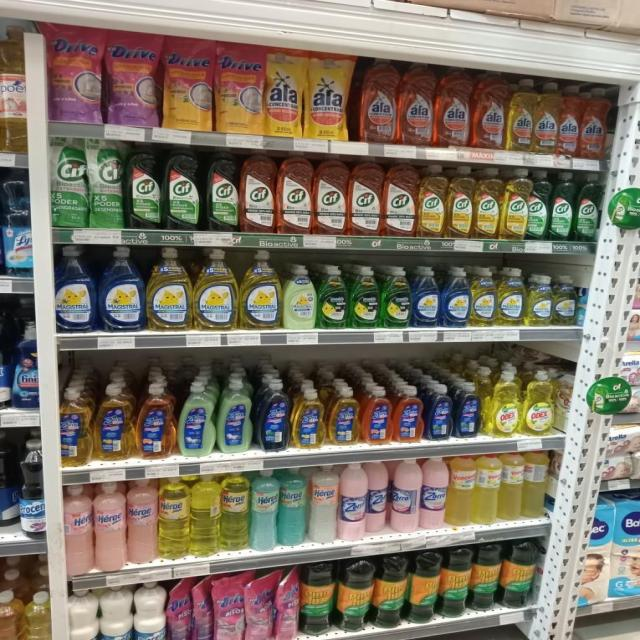ala_conc_amarillo: (508, 78, 534, 152), (534, 80, 558, 155)
ala_conc_rojo: (358, 58, 398, 144), (398, 61, 434, 147), (472, 70, 507, 150), (436, 66, 470, 148), (581, 85, 609, 159), (558, 83, 580, 158)
ala_sachet_amarillo: (306, 51, 352, 140), (265, 47, 304, 137)
cif_conc_bot_amarilla: (418, 164, 446, 238), (474, 166, 501, 240), (447, 164, 473, 238), (502, 168, 528, 240)
cif_conc_botella_roja: (277, 150, 312, 235), (240, 149, 275, 233), (348, 156, 382, 237), (314, 153, 347, 236), (384, 159, 417, 238)
cif_conc_botella_verde: (164, 144, 202, 230), (127, 141, 162, 230), (204, 146, 239, 232), (576, 171, 600, 242), (550, 171, 574, 241), (528, 170, 550, 240)
cif_conc_sachet_verde: (88, 138, 125, 229), (51, 136, 87, 228)
drive: (106, 30, 160, 127), (163, 36, 213, 131), (216, 42, 263, 134)
heroe: (94, 481, 125, 572), (63, 483, 93, 576), (158, 476, 189, 560), (127, 478, 157, 564), (190, 473, 220, 556), (308, 464, 338, 543), (250, 469, 278, 551), (221, 471, 249, 552), (279, 467, 307, 546)
magistral_con_amarillo: (147, 246, 192, 331), (193, 248, 238, 331), (240, 250, 281, 330), (497, 268, 525, 326), (471, 266, 496, 328), (526, 274, 552, 326), (553, 274, 578, 326)
magistral_con_azul: (100, 245, 144, 332), (54, 244, 96, 333), (412, 265, 440, 328), (442, 266, 470, 328)
magistral_con_crema: (284, 264, 316, 330)
odex: (489, 368, 521, 438), (523, 370, 555, 436)
zorro: (94, 382, 134, 461), (136, 381, 175, 459), (178, 379, 215, 456), (217, 375, 253, 454), (59, 385, 92, 467), (256, 377, 289, 451), (292, 384, 325, 449), (328, 386, 360, 446), (394, 385, 423, 443), (362, 386, 391, 444), (455, 382, 482, 438), (426, 383, 452, 441), (0, 318, 10, 411)
